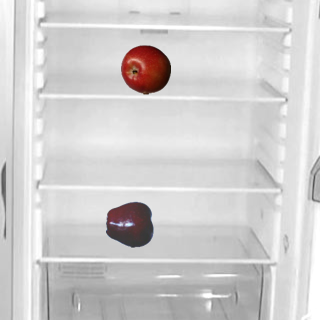Apple Braeburn: (120, 44, 170, 94)
Apple Red Delicious: (105, 199, 155, 249)
